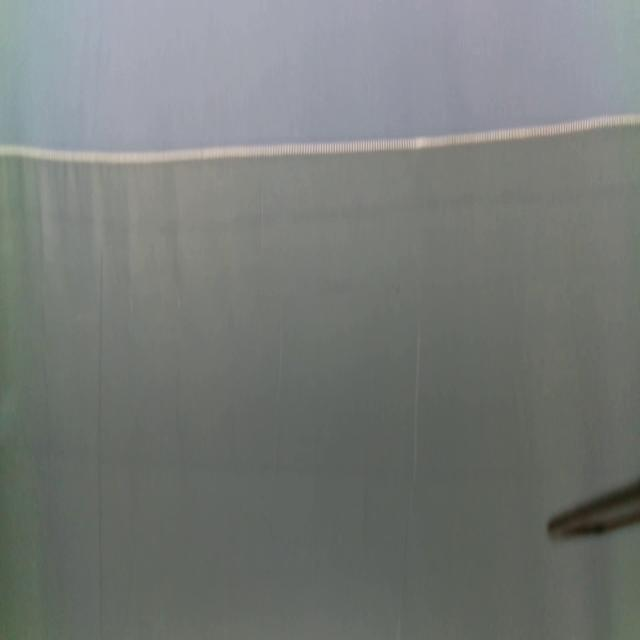color bleeding: (0, 179, 640, 236), (4, 447, 606, 492)
crease: (95, 249, 106, 640), (410, 310, 424, 484)
